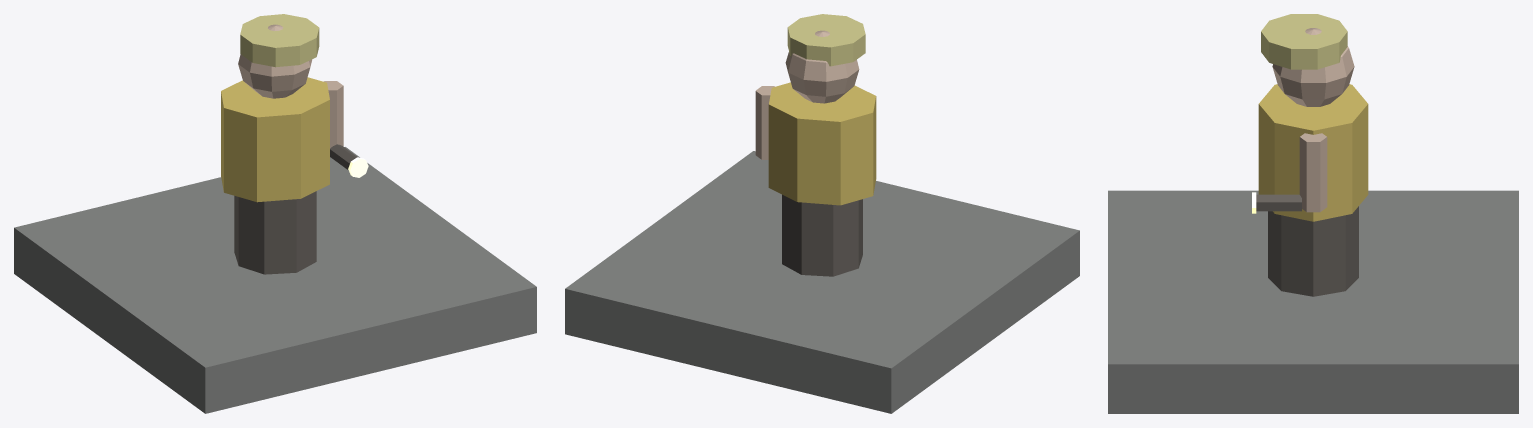
Rendered from human_watch.glb.
3 renders of one model, left to right at view 1: azimuth 30°, elevation 25°; view 2: azimuth 150°, elevation 25°; view 3: azimuth 270°, elevation 25°, orthographic. The views are drawn at different scales.
Visible parts, largest first — view 1: Base, TurretMesh, ArmMesh; view 2: Base, TurretMesh, ArmMesh; view 3: Base, TurretMesh, ArmMesh.
Boxes of the visible parts, left/top/right/bottom form: Base: left=14, top=147, right=536, bottom=413; TurretMesh: left=221, top=14, right=329, bottom=274; ArmMesh: left=324, top=81, right=357, bottom=170; Base: left=565, top=151, right=1079, bottom=413; TurretMesh: left=768, top=14, right=876, bottom=276; ArmMesh: left=755, top=86, right=774, bottom=159; Base: left=1108, top=190, right=1518, bottom=413; TurretMesh: left=1258, top=14, right=1368, bottom=296; ArmMesh: left=1256, top=133, right=1327, bottom=212.
Size of the model in its own units: 1.8 by 1.44 by 1.8.
